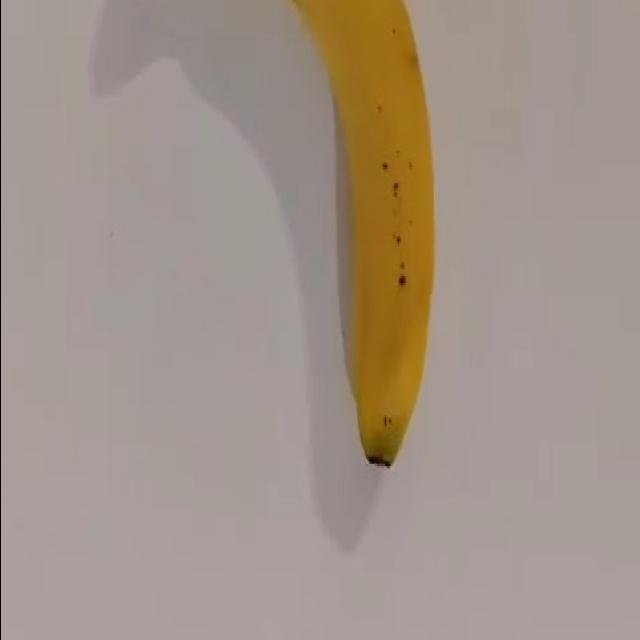Banana: (189, 0, 469, 519)
